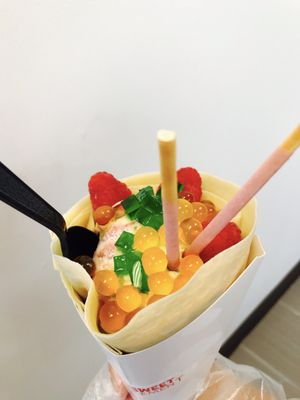sandwich: (0, 159, 101, 279)
